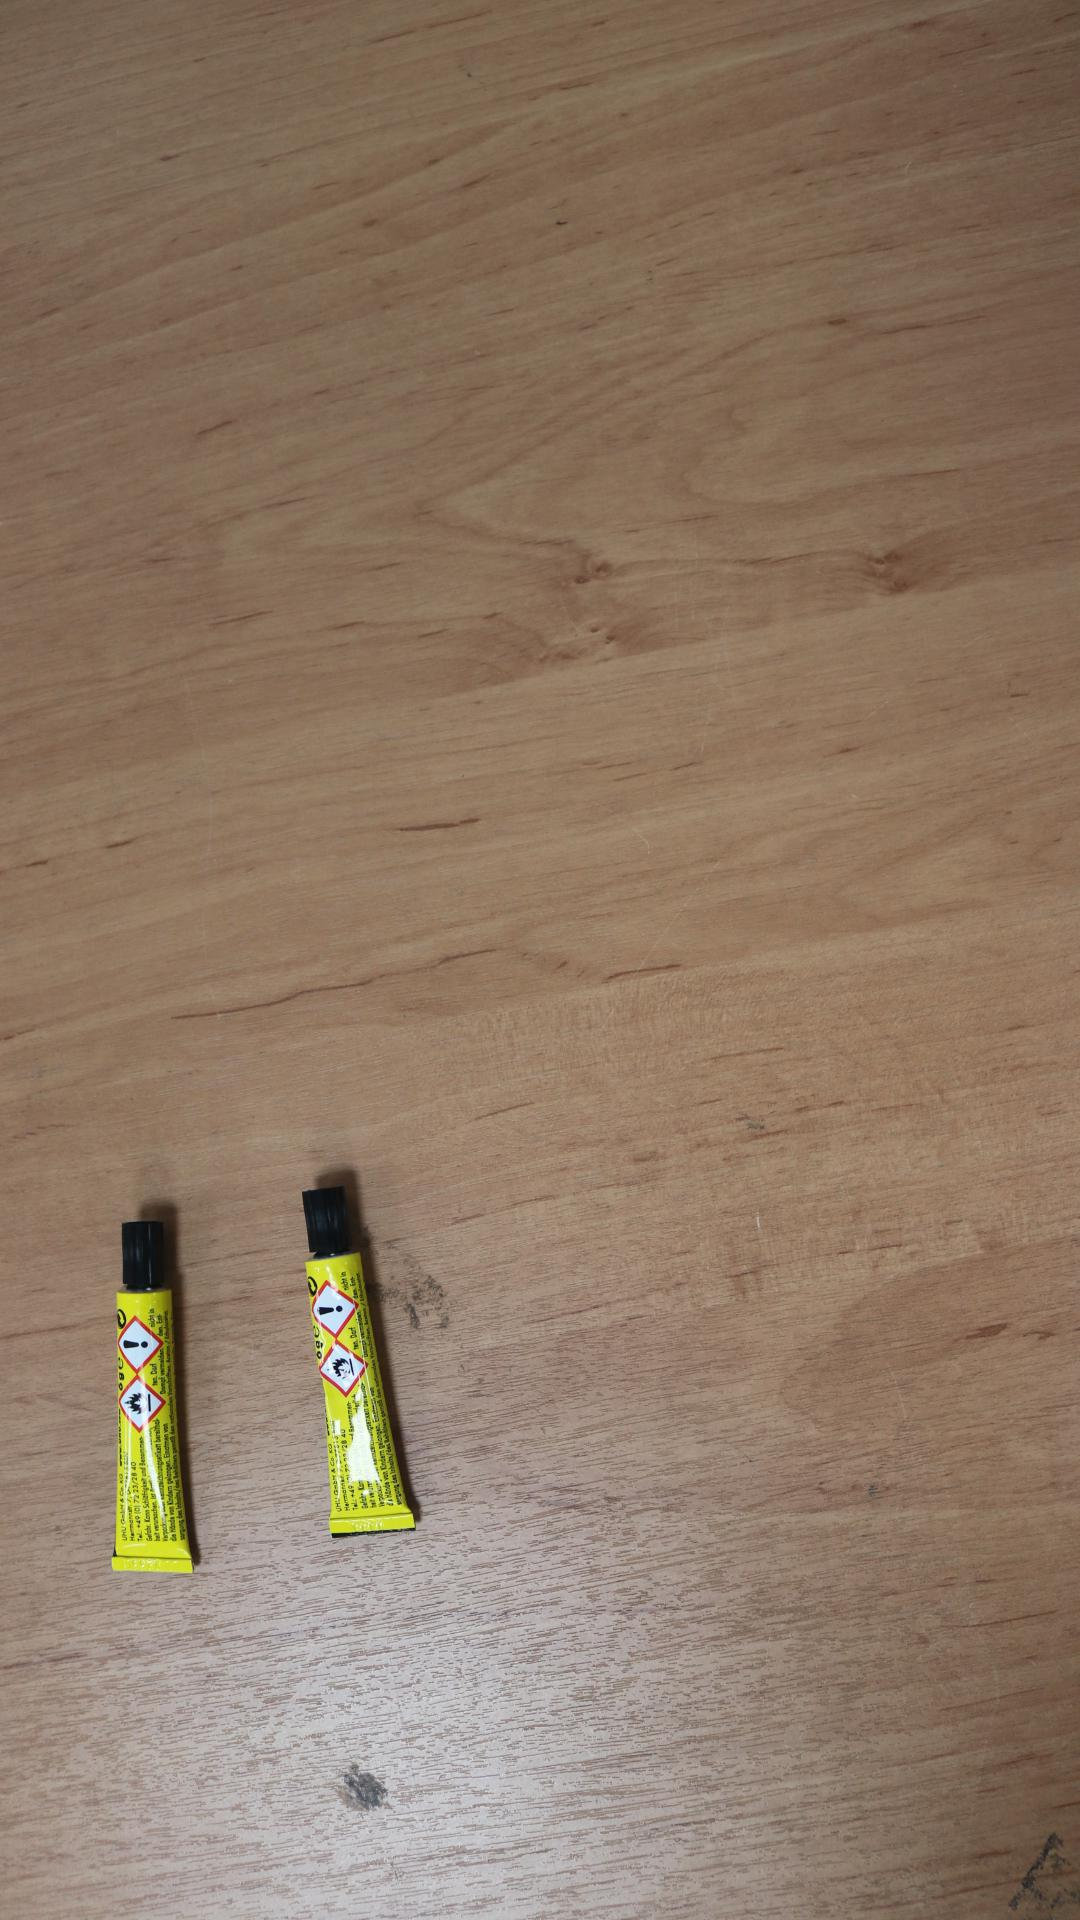Head: (324, 1216, 330, 1222), (139, 1252, 145, 1257)
Tail: (366, 1522, 372, 1527), (145, 1563, 150, 1567)
Tube: (301, 1184, 417, 1539), (111, 1219, 196, 1574)
